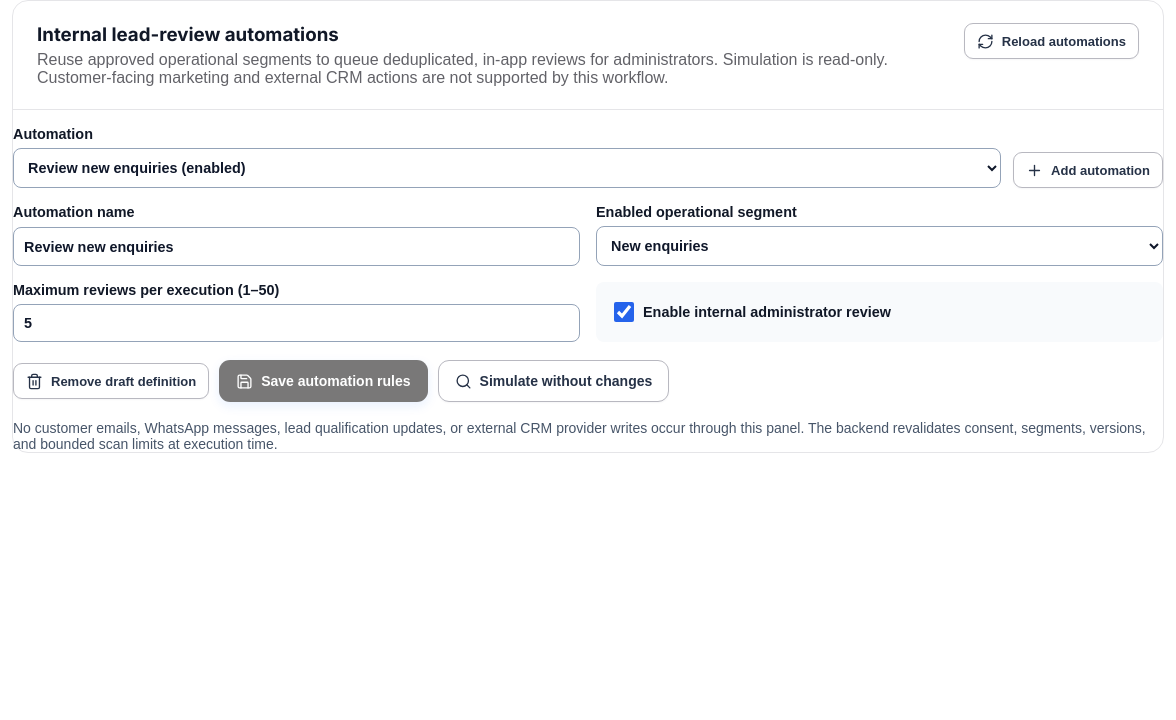
it: Internal Lead automations inside existing CRM Workflow › keeps an unsaved policy when the server rejects a version conflict
Replace the text in the field labelled "Automation name" with "Unsent operations review": (296, 246) [13,227,580,266]
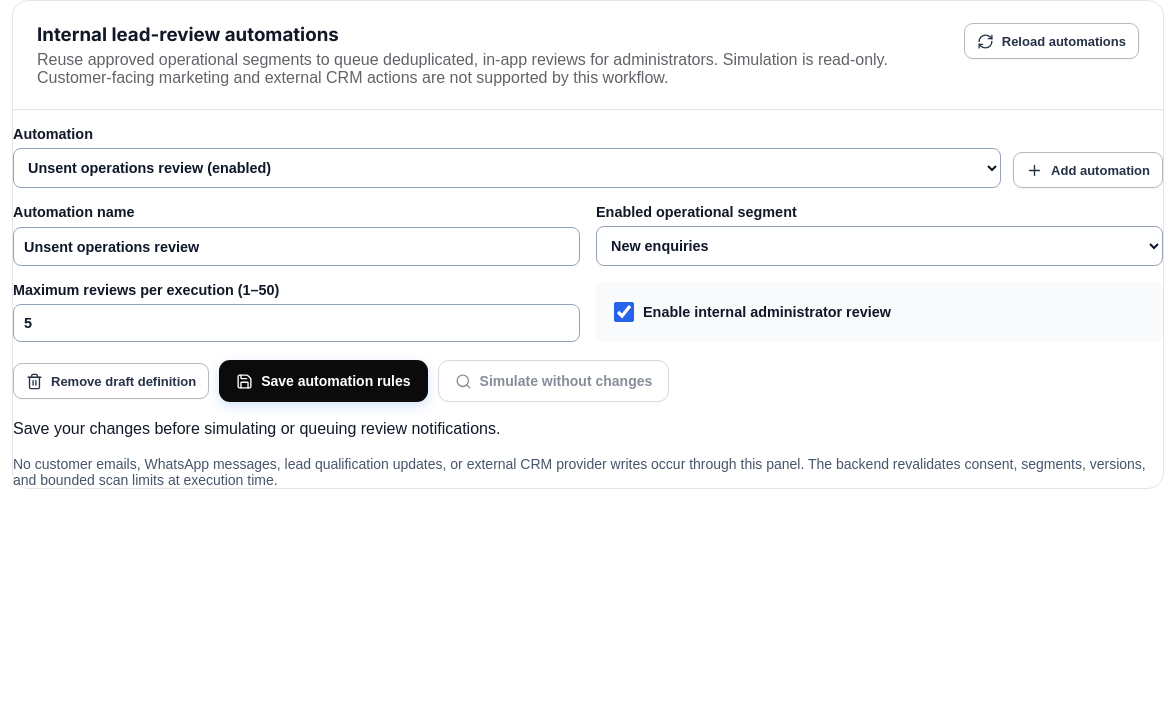
Click the button "Save automation rules": (323, 381) [219,360,428,402]
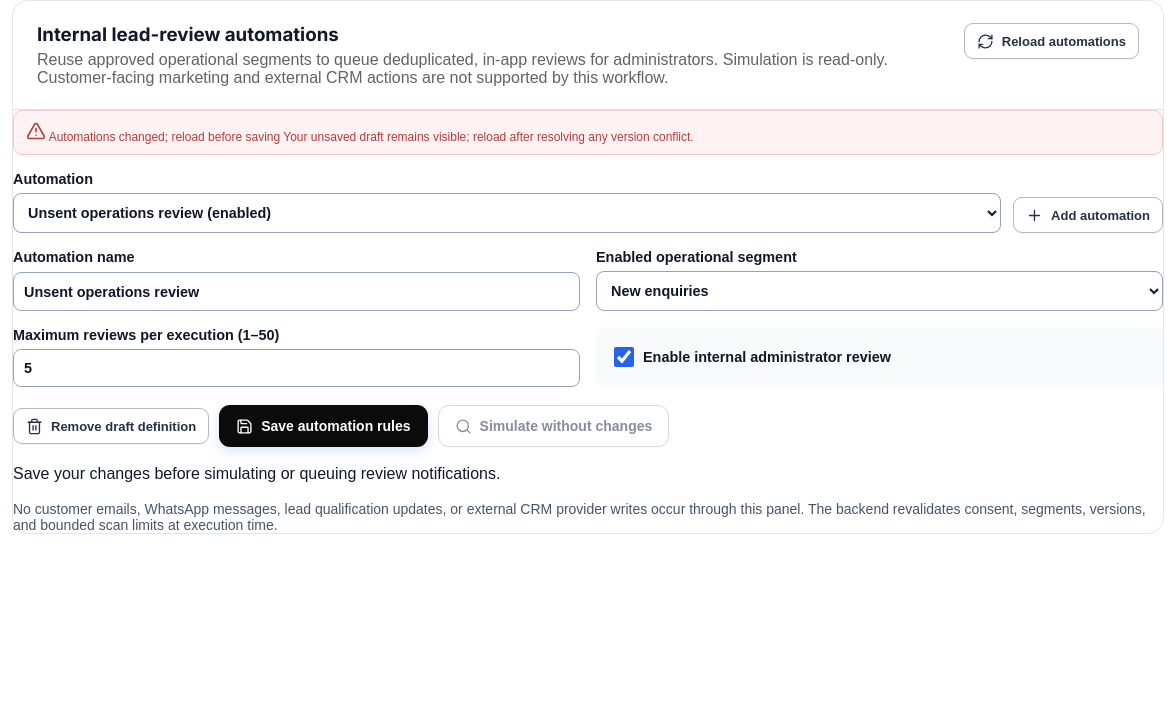
Now the 1st message shows "Automations changed", box [49,130,694,144]
